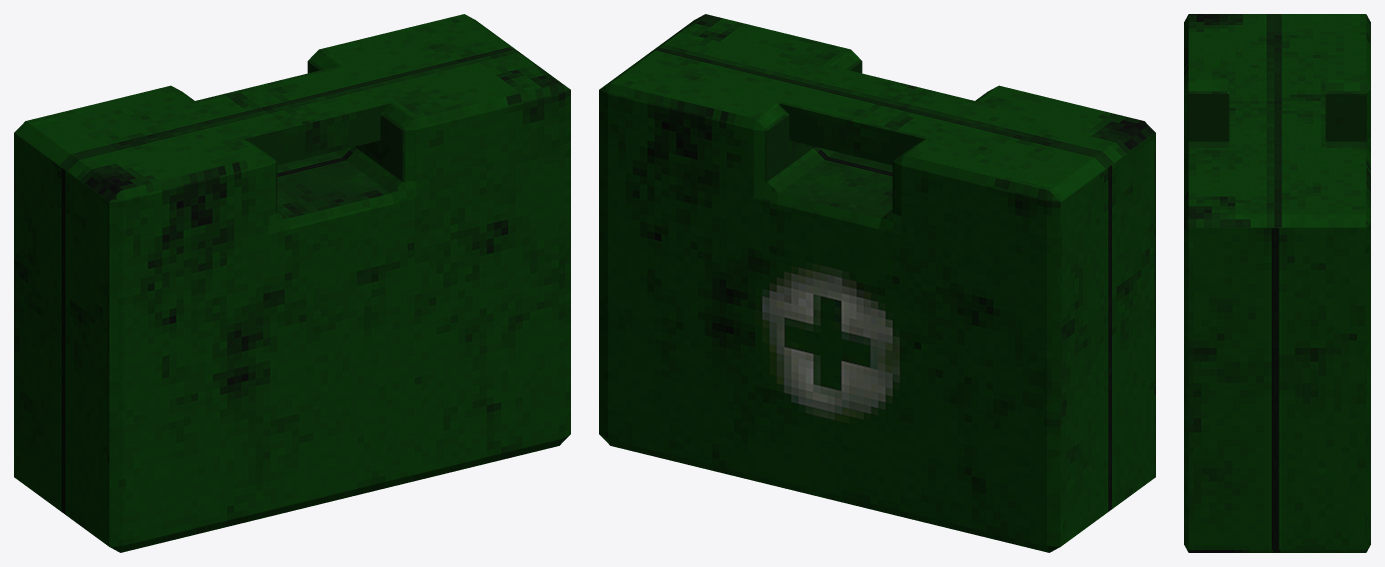
The model's file is SM_MedKit.fbx.
3 views of the same model, side by side, from view 1: azimuth 30°, elevation 25°; view 2: azimuth 150°, elevation 25°; view 3: azimuth 270°, elevation 25° (orthographic). The views are drawn at different scales.
Parts seen in each view (by area): view 1: SM_Medkit; view 2: SM_Medkit; view 3: SM_Medkit.
Part boxes in pixels (x1=…): SM_Medkit: x1=14, y1=14, x2=570, y2=552; SM_Medkit: x1=599, y1=14, x2=1155, y2=552; SM_Medkit: x1=1184, y1=14, x2=1370, y2=552.
Size of the model in its own units: 44.19 by 33.14 by 16.57.
